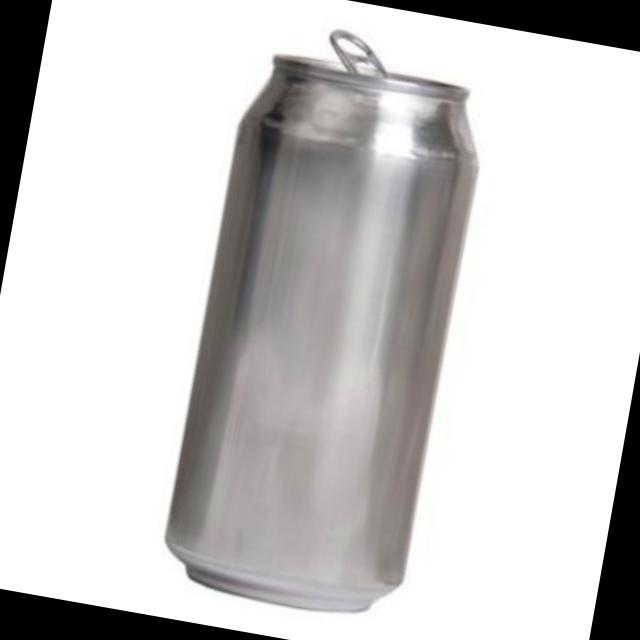metal: (164, 28, 474, 607)
